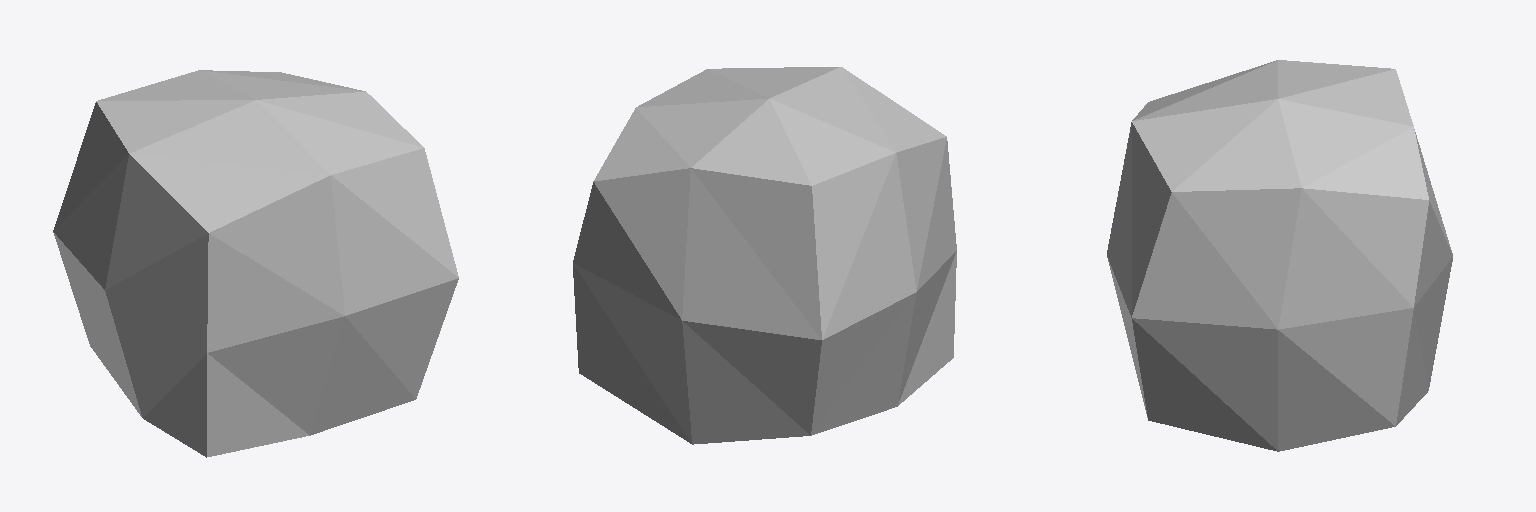
File: rock.obj
3 views of the same model, side by side, from view 1: azimuth 30°, elevation 25°; view 2: azimuth 150°, elevation 25°; view 3: azimuth 270°, elevation 25° (orthographic).
Parts seen in each view (by area): view 1: Object.1; view 2: Object.1; view 3: Object.1.
Boxes of the visible parts, <box> form: Object.1: <box>53,70,458,457</box>; Object.1: <box>573,67,956,444</box>; Object.1: <box>1107,60,1452,451</box>.
Bounding box in the file's own units: 6.43 × 6.43 × 6.44.